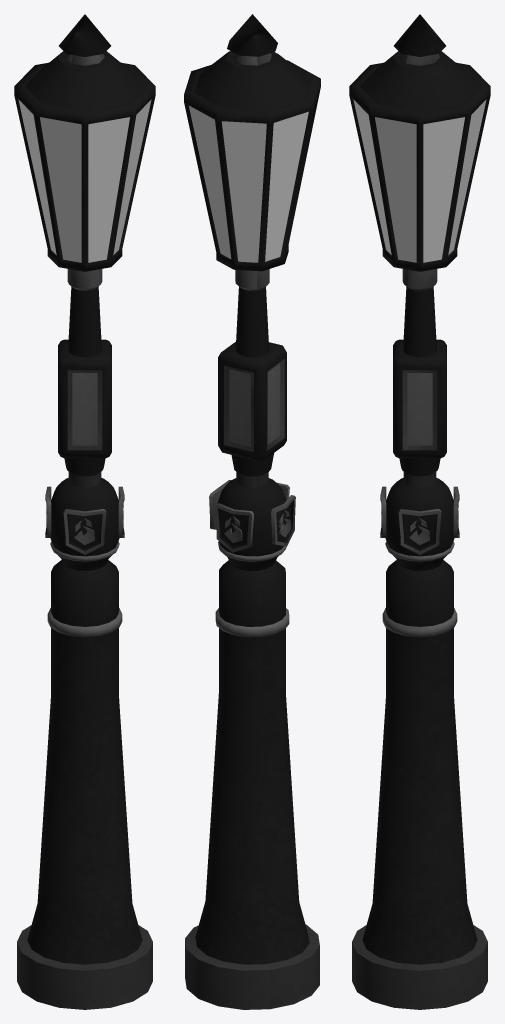
Rendered from StreetLamp.fbx.
The picture shows the model from 3 angles, left to right: view 1: azimuth 90°, elevation 25°; view 2: azimuth 150°, elevation 25°; view 3: azimuth 270°, elevation 25°; orthographic projection.
Visible parts, largest first — view 1: StreetLamp; view 2: StreetLamp; view 3: StreetLamp.
Part boxes in pixels (x1,y1,x2,y2): StreetLamp: (14, 14, 155, 1009); StreetLamp: (184, 14, 320, 1009); StreetLamp: (349, 14, 490, 1009).
Bounding box in the file's own units: 0.6263 × 4.72 × 0.6263.
